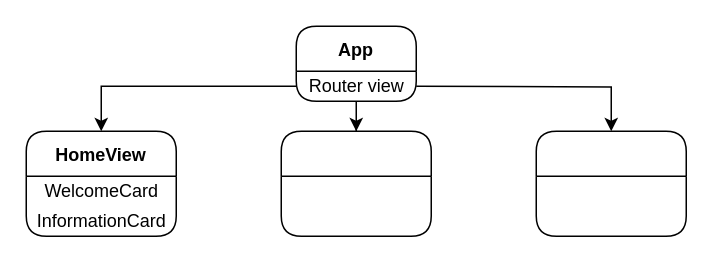
The diagram is 713 pixels wide and 263 high, and some of its shapes have lost their labels. Each missing label, with the centre of its shape:
"JourneyView" goes at point (355, 183).
"StationView" goes at point (610, 183).
